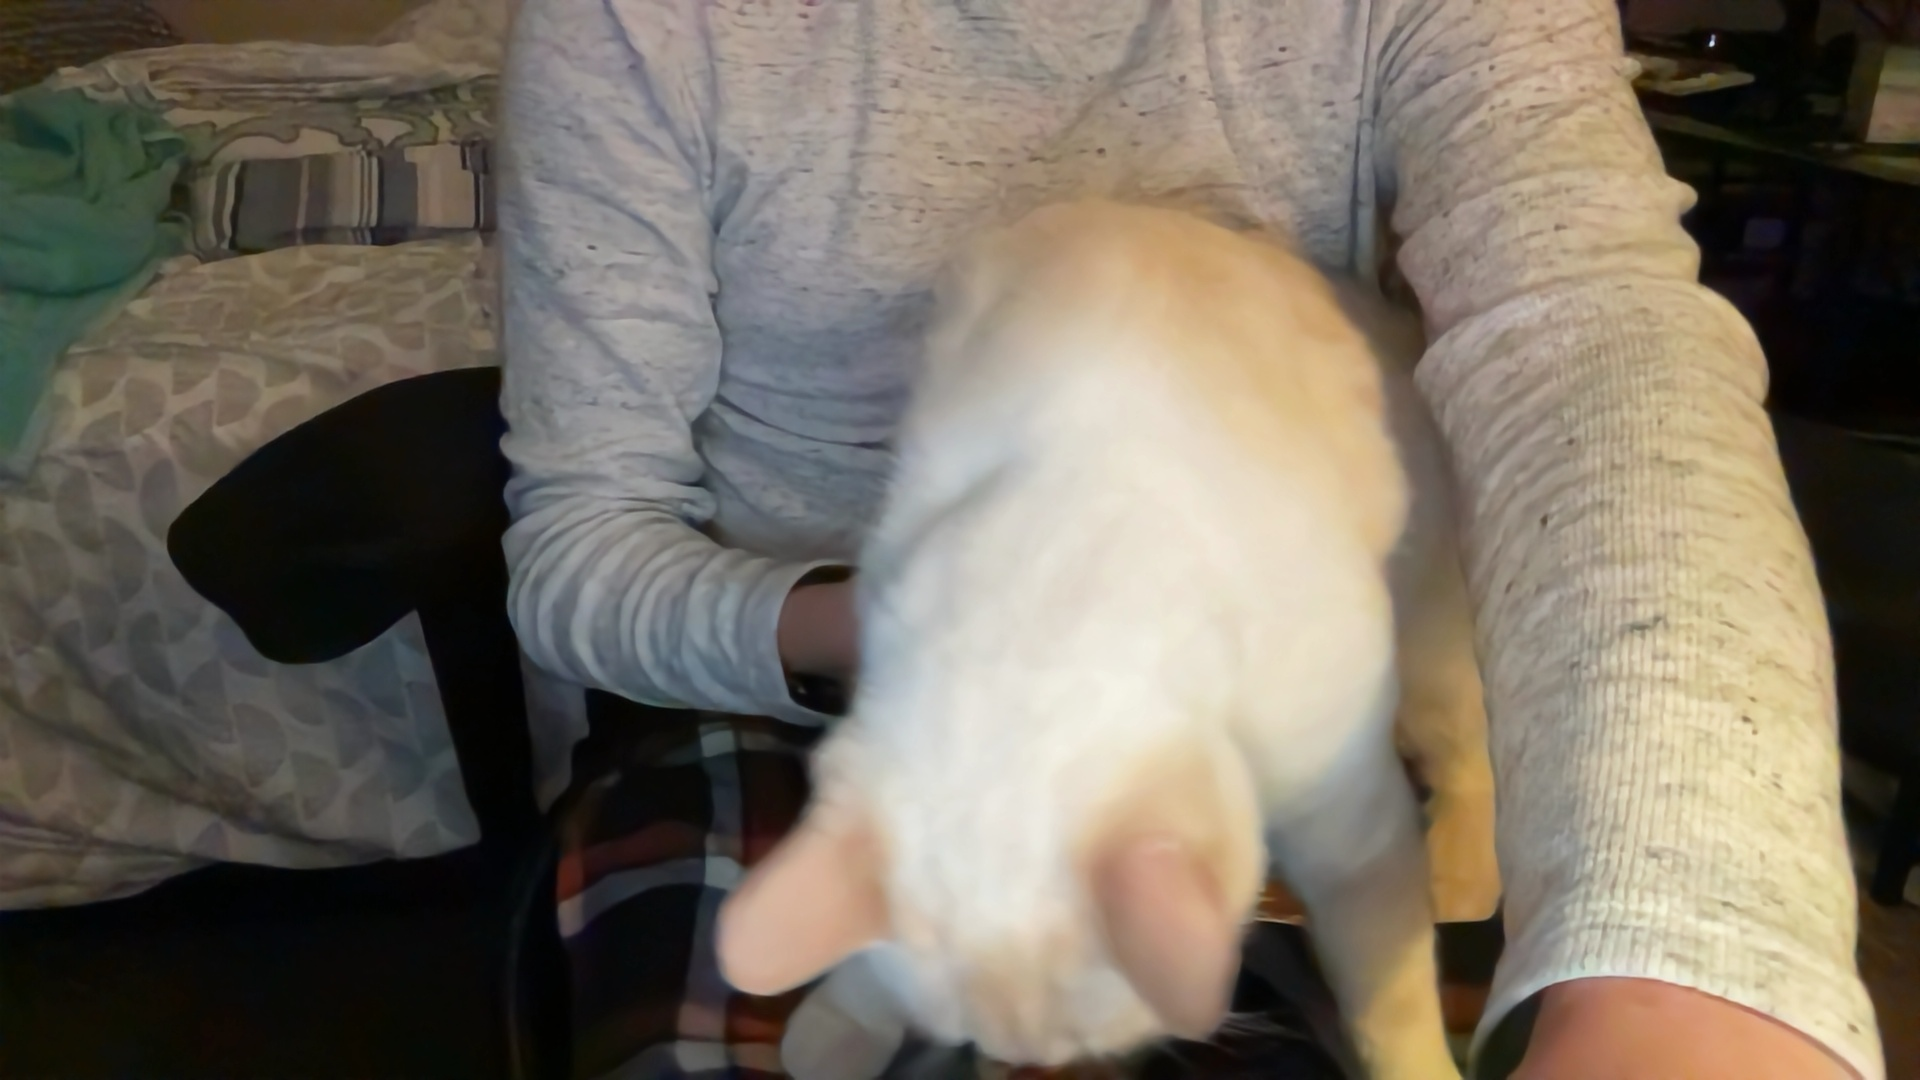cat: (709, 185, 1505, 1080)
